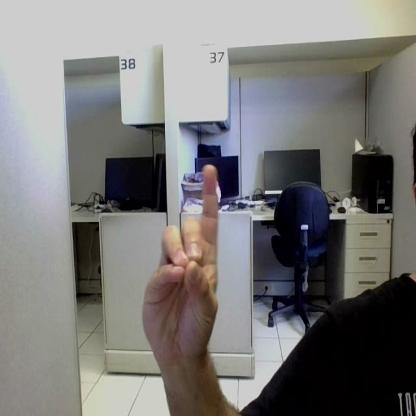D: (141, 164, 219, 348)
